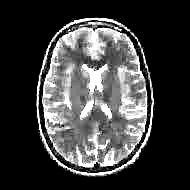Normal_Brain: (1, 2, 190, 190)
